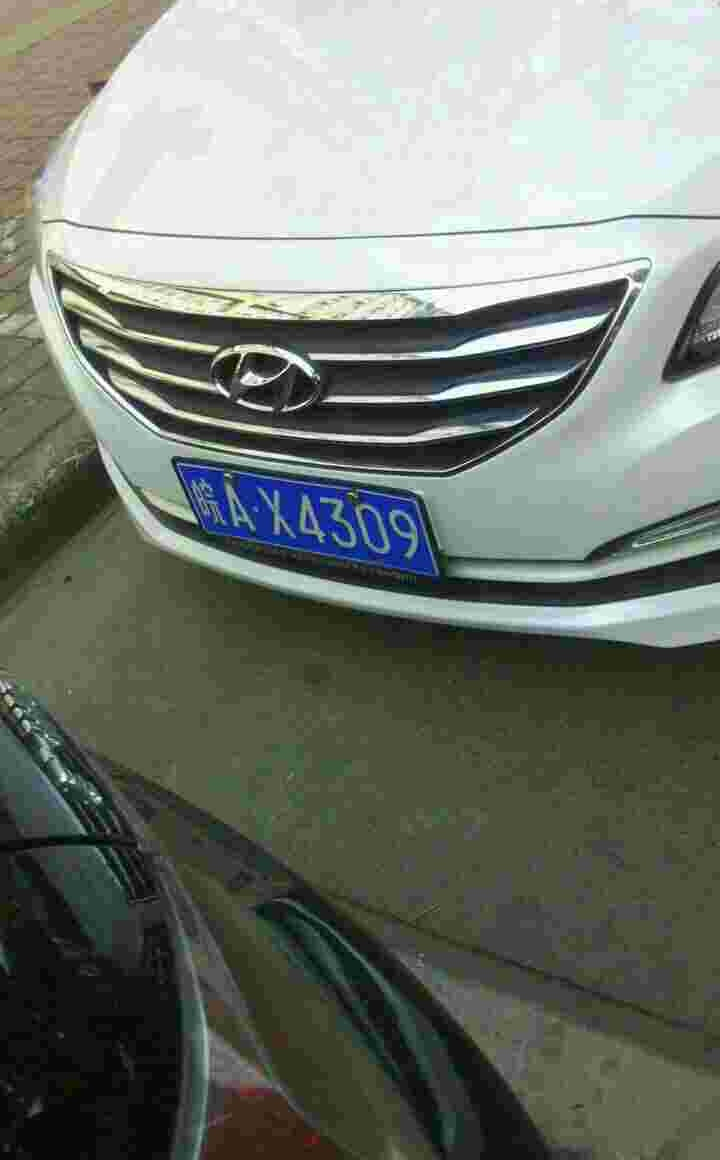license_plate: (179, 460, 440, 585)
